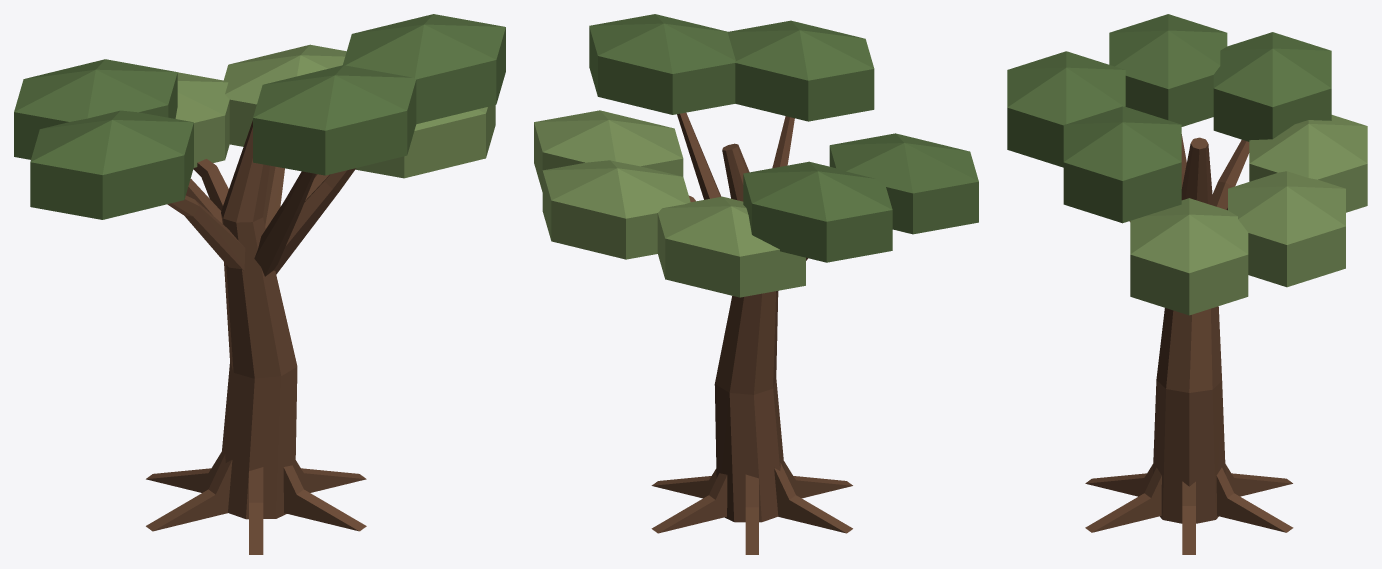
The model's file is Plant_Feature_Forest_ButtressTree_001_LOD1.glb.
3 renders of one model, left to right at view 1: azimuth 30°, elevation 25°; view 2: azimuth 150°, elevation 25°; view 3: azimuth 270°, elevation 25°, orthographic. The views are drawn at different scales.
Parts seen in each view (by area): view 1: Plant_Feature_Forest_ButtressTree_001_LOD1; view 2: Plant_Feature_Forest_ButtressTree_001_LOD1; view 3: Plant_Feature_Forest_ButtressTree_001_LOD1.
Boxes of the visible parts, x1,y1,x2,y2 form: Plant_Feature_Forest_ButtressTree_001_LOD1: [14, 14, 505, 554]; Plant_Feature_Forest_ButtressTree_001_LOD1: [534, 14, 978, 554]; Plant_Feature_Forest_ButtressTree_001_LOD1: [1007, 14, 1367, 554].
Size of the model in its own units: 7.56 by 7.21 by 5.26.
